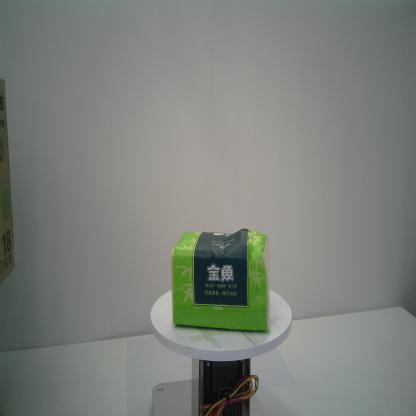Tissue: (171, 227, 271, 331)
